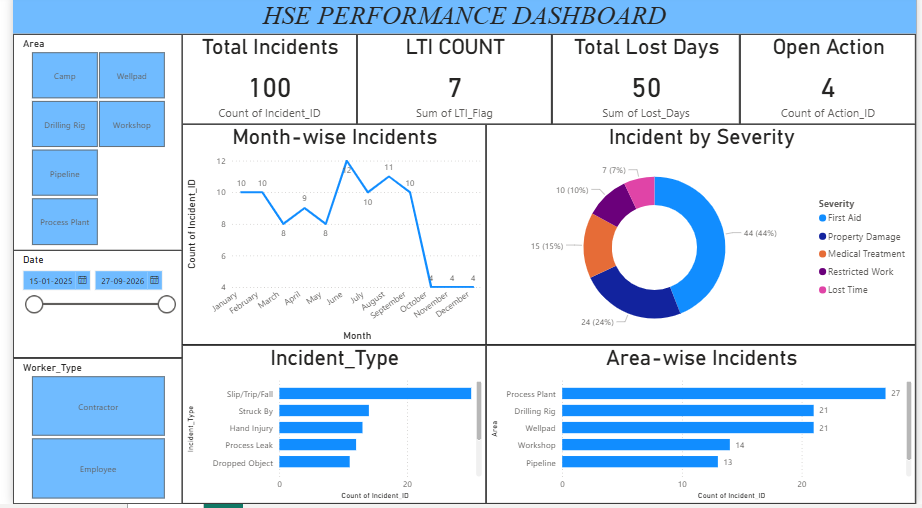

The dashboard page shown, as its layout file describes it:
{"tool":"powerbi","page":{"name":"Page 1","canvas":[1280,720],"ordinal":0},"visuals":[{"type":"textbox","box":[0,0,1280,53.3],"z":0},{"type":"card","title":"Total Incidents","fields":{"Values":["Count(Incidents.Incident_ID)"]},"box":[239.5,53.9,248,127.6],"z":1000},{"type":"card","title":"LTI COUNT","fields":{"Values":["Sum(Incidents.LTI_Flag)"]},"box":[487.6,53.9,276.4,127.6],"z":2000},{"type":"card","title":"Total Lost Days","fields":{"Values":["Sum(Incidents.Lost_Days)"]},"box":[763.9,53.9,266.5,127.6],"z":3000},{"type":"card","title":"Open Action","fields":{"Values":["Count(Corrective_Actions.Action_ID)"]},"box":[1030.4,53.9,249.4,127.6],"z":4000},{"type":"slicer","fields":{"Values":["Incidents.Area"]},"box":[0,53.3,240,306.7],"z":5000},{"type":"slicer","fields":{"Values":["Incidents.Date"]},"box":[0,360,239.5,153.1],"z":6000},{"type":"lineChart","title":"Month-wise Incidents","fields":{"Category":["Incidents.Month_Start.Variation.Date Hierarchy.Month"],"Y":["Count(Incidents.Incident_ID)"]},"box":[239.5,181.4,430.9,313.2],"z":7000},{"type":"clusteredBarChart","title":"Area-wise Incidents","fields":{"Category":["Incidents.Area"],"Y":["Count(Incidents.Incident_ID)"]},"box":[670.4,494.6,609.4,225.4],"z":8000},{"type":"clusteredBarChart","title":"Incident_Type","fields":{"Category":["Incidents.Incident_Type"],"Y":["CountNonNull(Incidents.Incident_ID)"]},"box":[239.5,494.6,430.9,225.4],"z":9000},{"type":"donutChart","title":"Incident by Severity","fields":{"Category":["Incidents.Severity"],"Y":["CountNonNull(Incidents.Incident_ID)"]},"box":[670.4,181.4,609.4,313.2],"z":10000},{"type":"slicer","fields":{"Values":["Incidents.Worker_Type"]},"box":[0,513.1,239.5,206.9],"z":11000}]}

Visuals, with their boxes in screenshot pixels (x1, y1, x2, y2), scaled from the page's 1280x720 canvas onto the 922x508 screenshot:
textbox: box=[0, 0, 921, 38]
"Total Incidents" card: box=[173, 38, 351, 128]
"LTI COUNT" card: box=[351, 38, 550, 128]
"Total Lost Days" card: box=[550, 38, 742, 128]
"Open Action" card: box=[742, 38, 921, 128]
slicer - Incidents.Area: box=[0, 38, 173, 254]
slicer - Incidents.Date: box=[0, 254, 173, 362]
"Month-wise Incidents" lineChart: box=[173, 128, 483, 349]
"Area-wise Incidents" clusteredBarChart: box=[483, 349, 921, 507]
"Incident_Type" clusteredBarChart: box=[173, 349, 483, 507]
"Incident by Severity" donutChart: box=[483, 128, 921, 349]
slicer - Incidents.Worker_Type: box=[0, 362, 173, 507]
